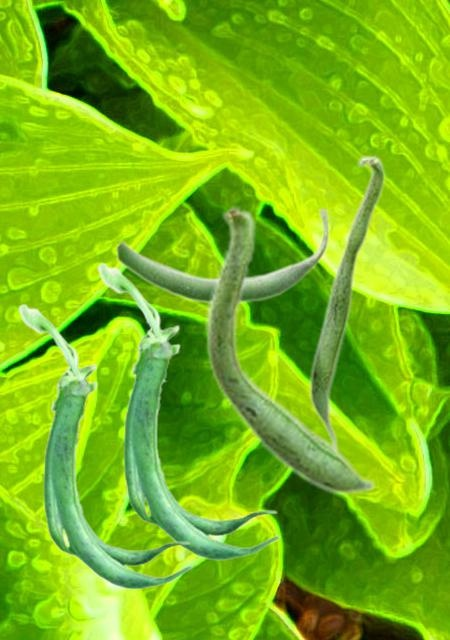french_bean: (96, 262, 279, 560), (17, 303, 192, 589), (205, 203, 375, 495), (308, 154, 385, 448), (115, 209, 329, 304)
